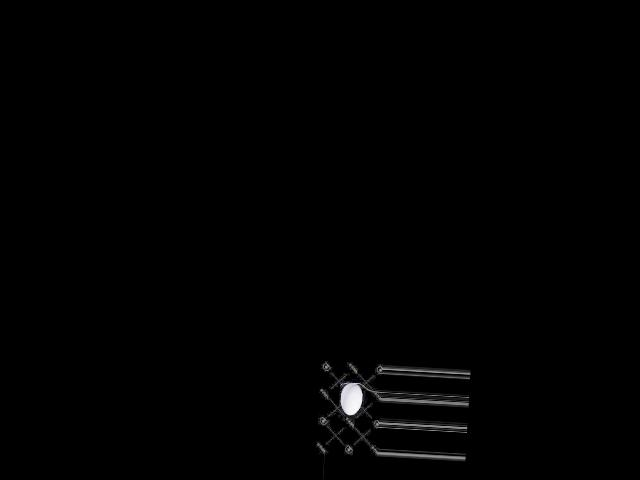egg: (339, 382, 363, 415)
